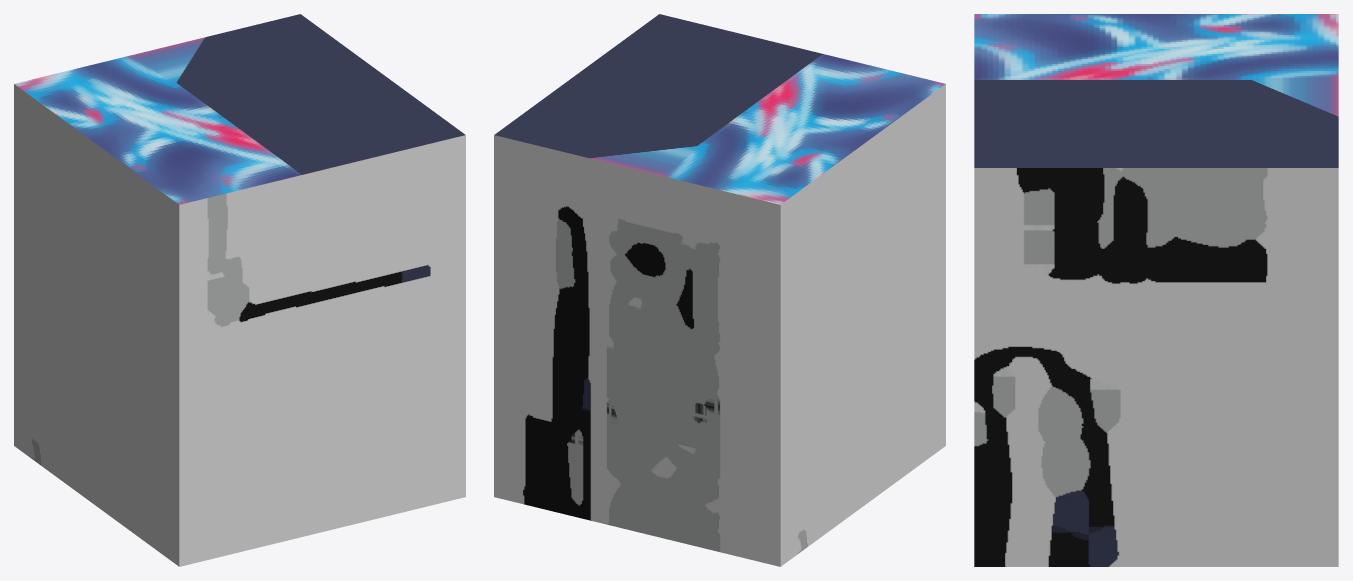
Rendered from HelmetBox.fbx.
The picture shows the model from 3 angles, left to right: view 1: azimuth 30°, elevation 25°; view 2: azimuth 150°, elevation 25°; view 3: azimuth 270°, elevation 25°; orthographic projection. The views are drawn at different scales.
Visible parts, largest first — view 1: GlassBox; view 2: GlassBox; view 3: GlassBox.
Boxes of the visible parts, <box> form: GlassBox: <box>14,14,465,566</box>; GlassBox: <box>494,14,945,566</box>; GlassBox: <box>974,14,1338,566</box>.
Size of the model in its own units: 220 by 266 by 220.
